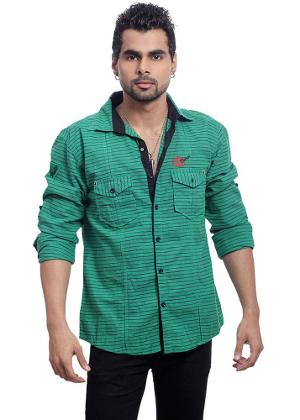Shirt: (30, 88, 277, 361)
